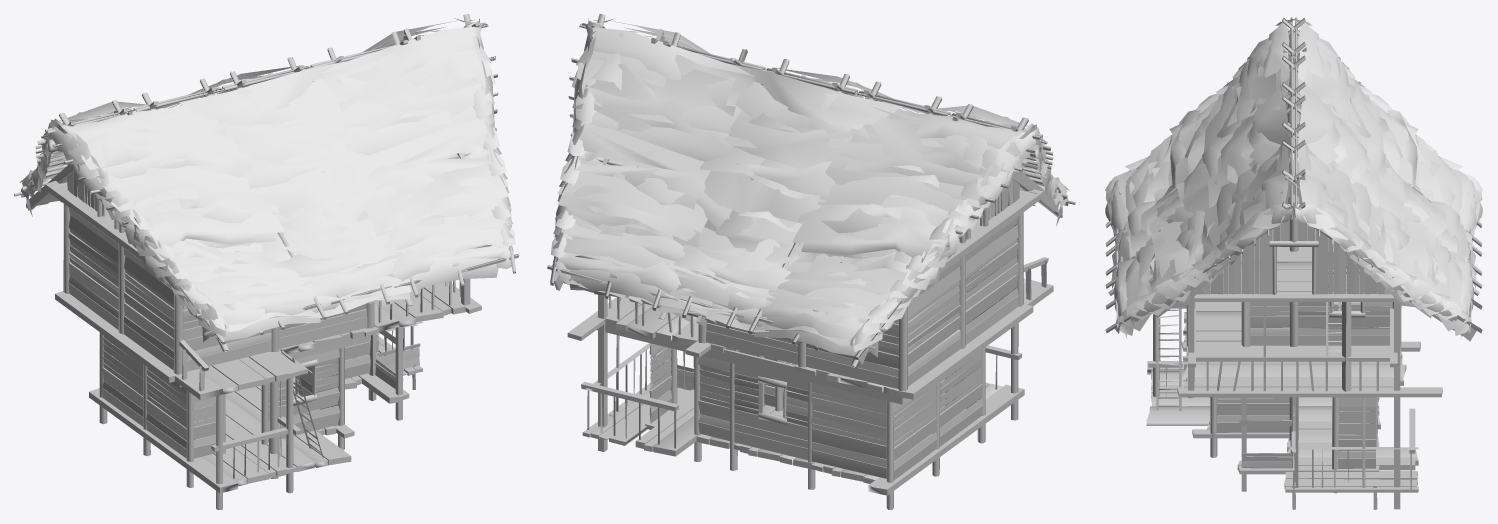
Rendered from lod2_fantasy_house_290b78c8.glb.
3 renders of one model, left to right at view 1: azimuth 30°, elevation 25°; view 2: azimuth 150°, elevation 25°; view 3: azimuth 270°, elevation 25°, orthographic. The views are drawn at different scales.
Visible parts, largest first — view 1: thatch_with_opacity, construction.005, construction.019; view 2: thatch_with_opacity, construction.005, construction.019; view 3: thatch_with_opacity, construction.005, construction.019.
Part boxes in pixels (x1,y1,x2,y2): thatch_with_opacity: (19, 18, 515, 342); construction.005: (26, 28, 503, 509); construction.019: (14, 14, 518, 344); thatch_with_opacity: (551, 18, 1069, 357); construction.005: (554, 29, 1062, 509); construction.019: (547, 14, 1075, 359); thatch_with_opacity: (1105, 19, 1482, 338); construction.005: (1108, 30, 1479, 509); construction.019: (1105, 17, 1482, 333).
Size of the model in its own units: 3686 by 2858 by 2949.
Materials: 3 (1 with a texture image).
